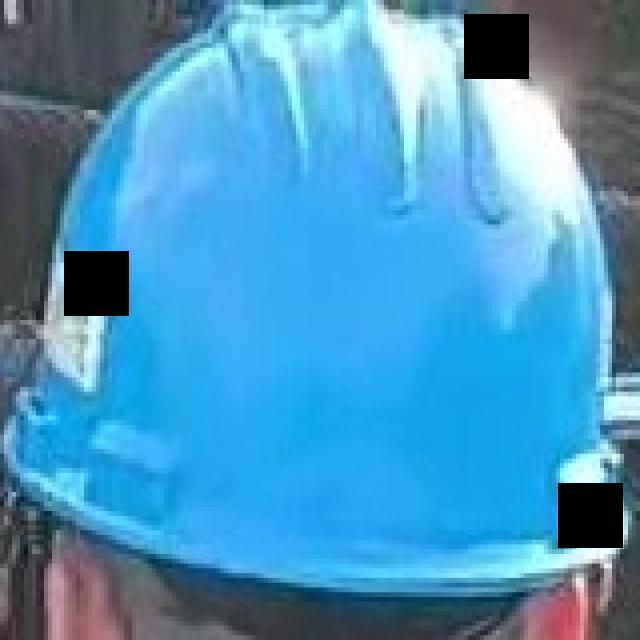blue helmet: (18, 8, 631, 602)
